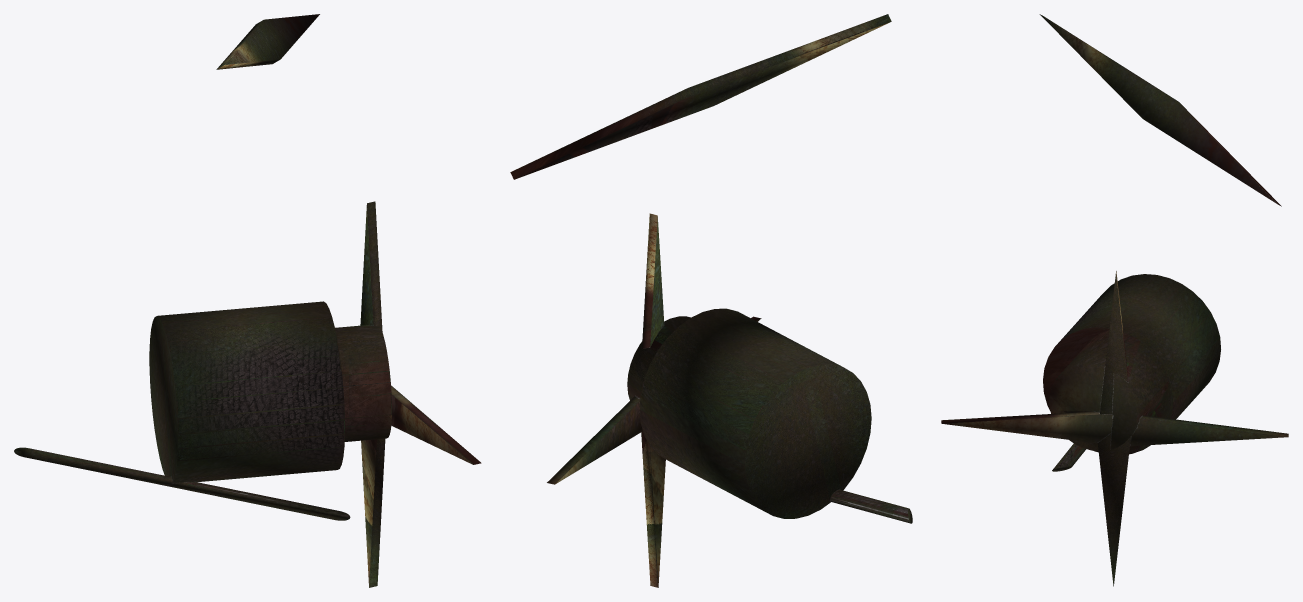
Rendered from Kaputter_Flugzeugmotor_1.fbx.
3 renders of one model, left to right at view 1: azimuth 30°, elevation 25°; view 2: azimuth 150°, elevation 25°; view 3: azimuth 270°, elevation 25°, orthographic. The views are drawn at different scales.
Parts seen in each view (by area): view 1: Kaputter_Flugmotor; view 2: Kaputter_Flugmotor; view 3: Kaputter_Flugmotor.
Part boxes in pixels (<box>): Kaputter_Flugmotor: <box>14,14,481,587</box>; Kaputter_Flugmotor: <box>510,14,912,587</box>; Kaputter_Flugmotor: <box>941,14,1288,586</box>.
Size of the model in its own units: 1.79 by 2.88 by 1.83.
1 material, 1 textured.
